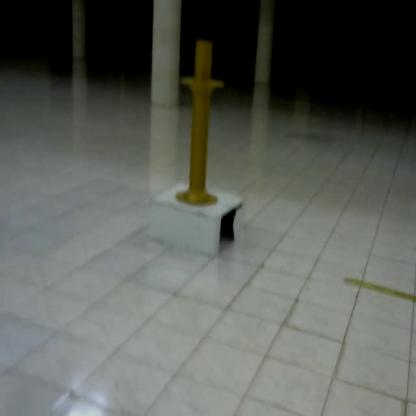pole: (173, 33, 226, 212)
